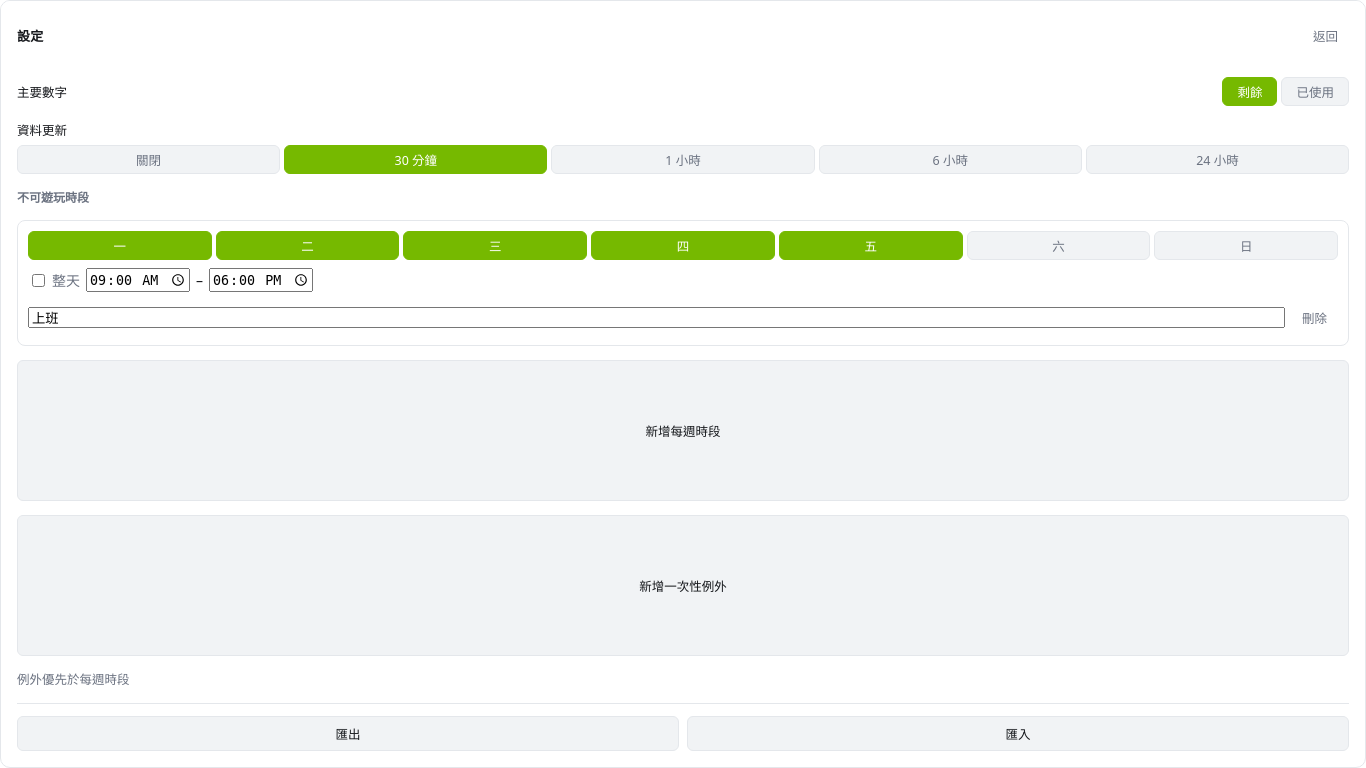
Test case: ScheduleForm › 沒有選任何星期時不寫出去
What coordinates should you click on to do the following:
click the button "一"
I would click on:
 (120, 246)
Its box is [28,231,212,260].
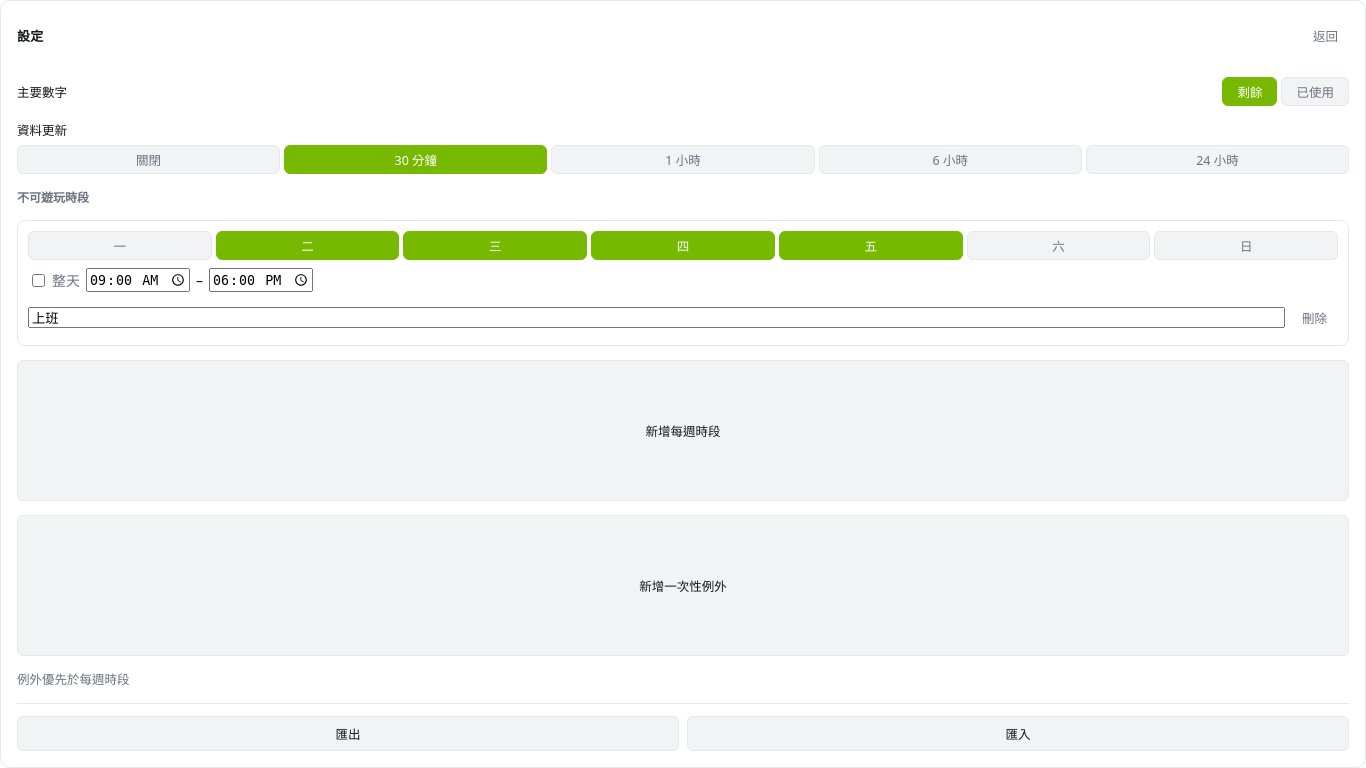
What coordinates should you click on to do the following:
click the button "二"
I would click on:
 (308, 246)
Its box is [216,231,399,260].
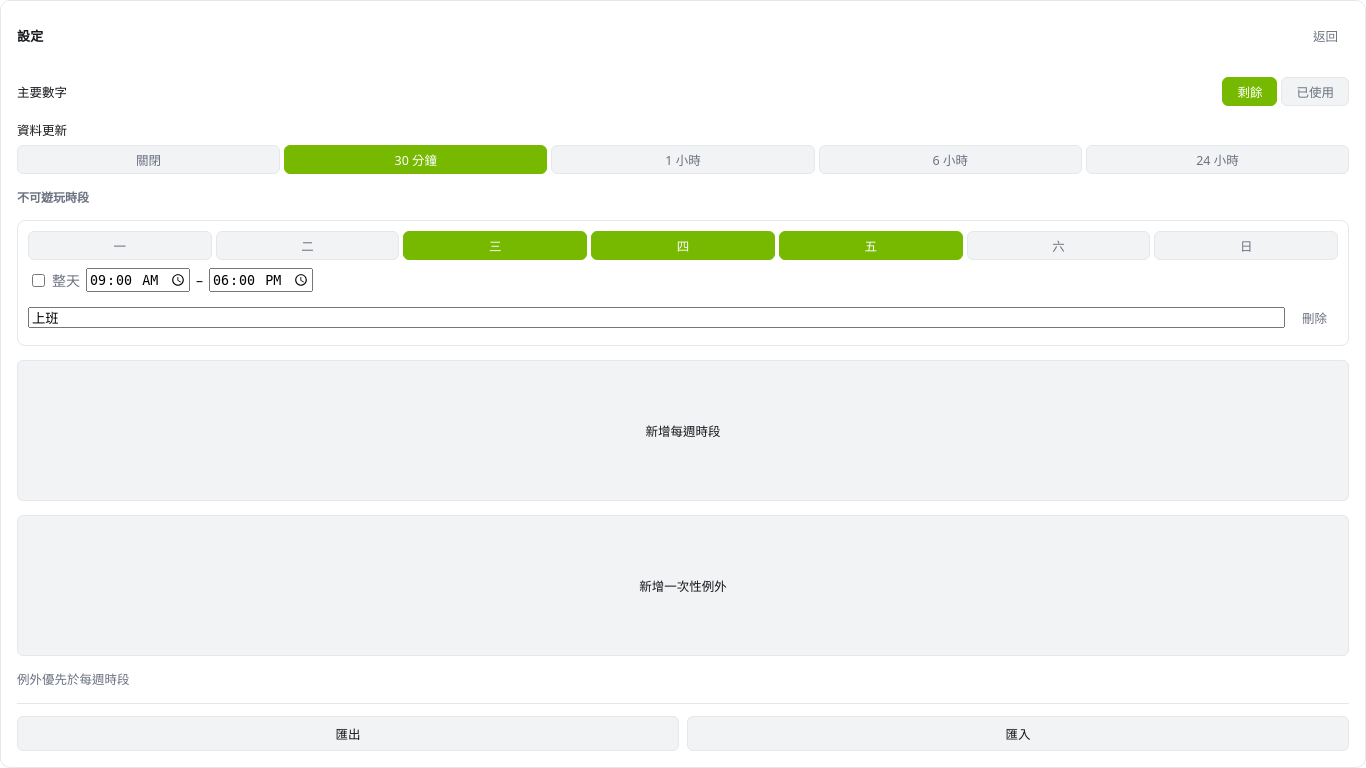
What coordinates should you click on to do the following:
click the button "三"
I would click on:
 (495, 246)
Its box is [403,231,587,260].
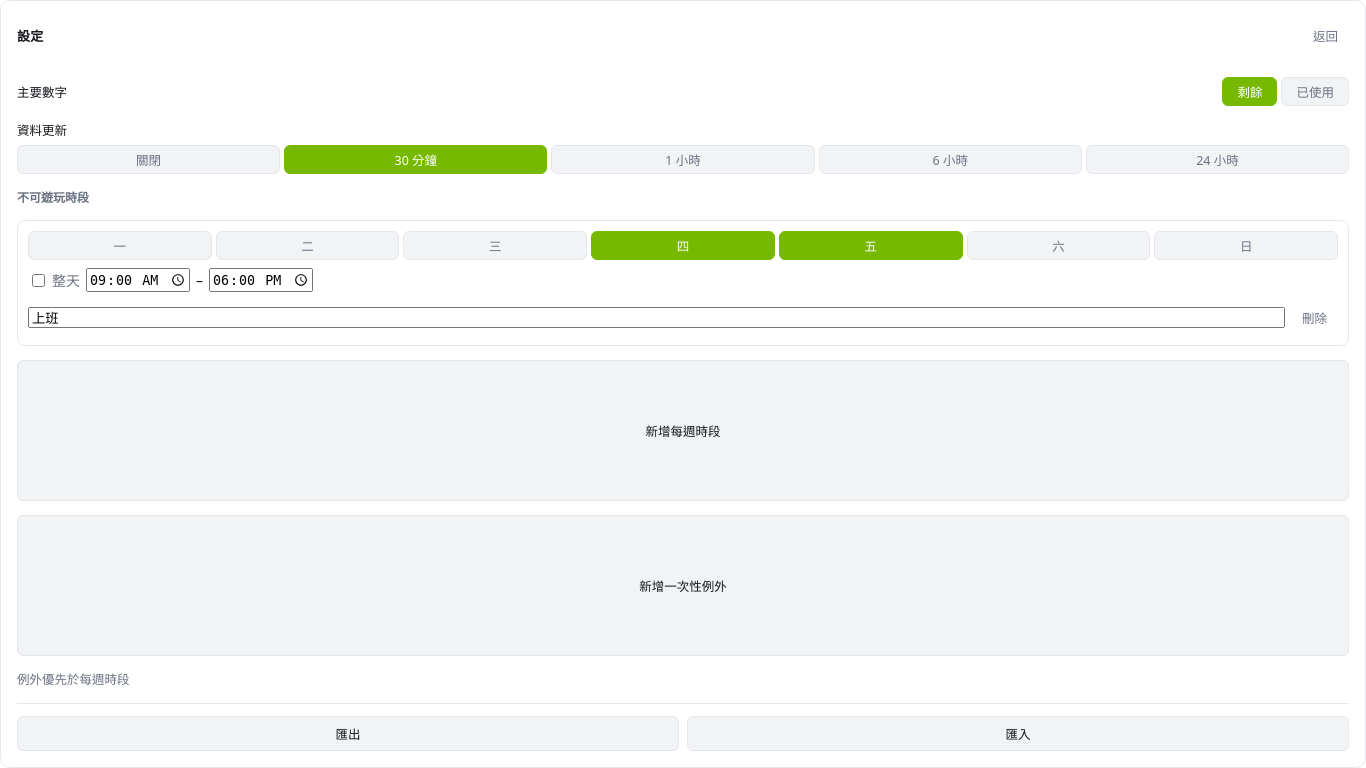
What coordinates should you click on to do the following:
click the button "四"
I would click on:
 (683, 246)
Its box is [591,231,775,260].
Wait 1000 ms
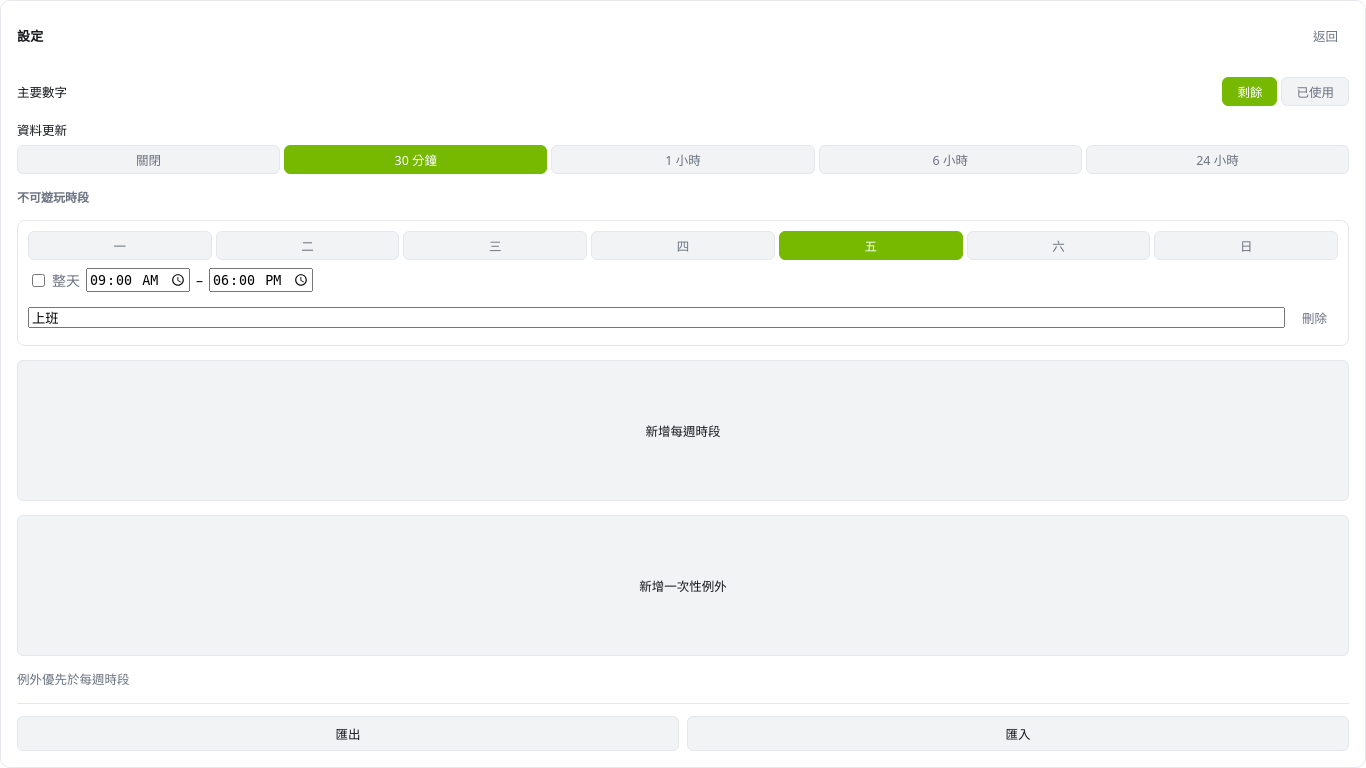
What coordinates should you click on to do the following:
click the button named "星期五"
I would click on:
 (871, 246)
Its box is [779,231,963,260].
Wait 1000 ms
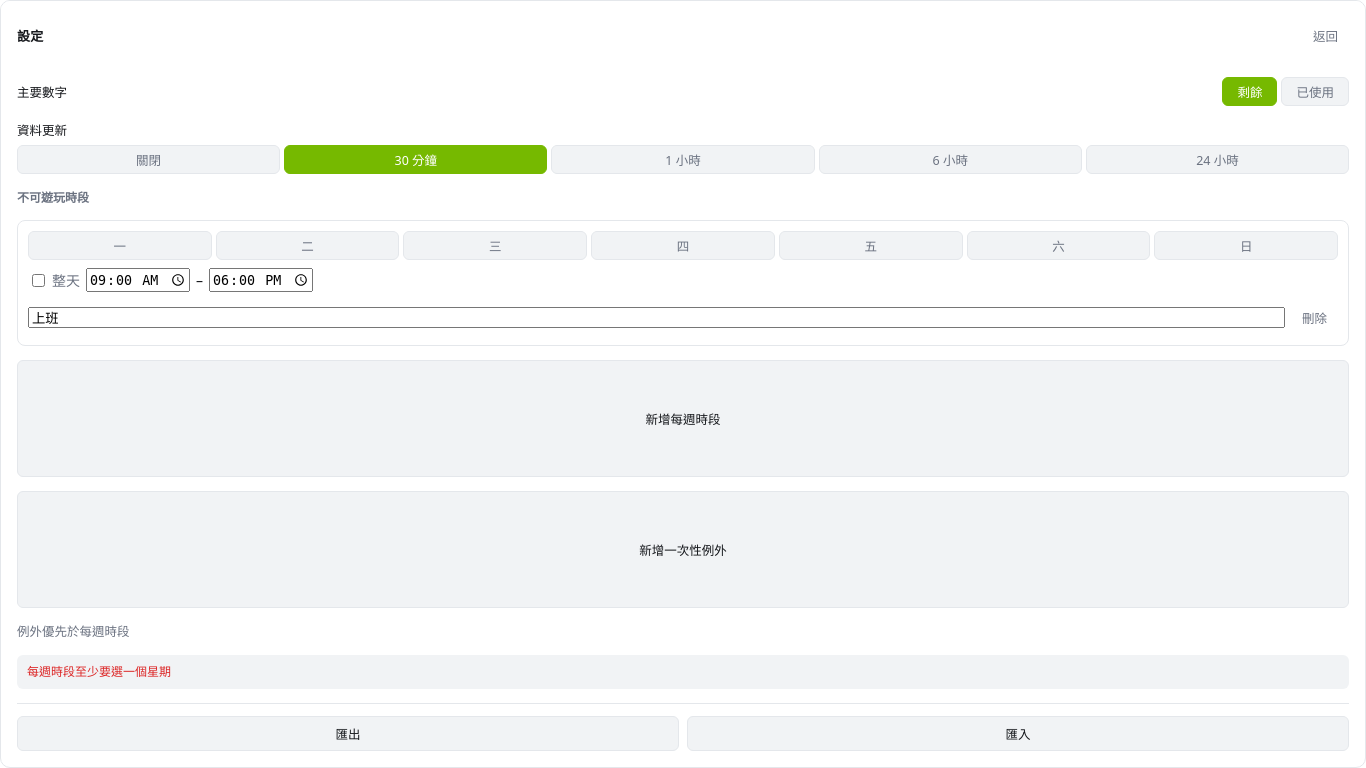
Expected: the text "每週時段至少要選一個星期" is shown, [17,655,1349,689]
